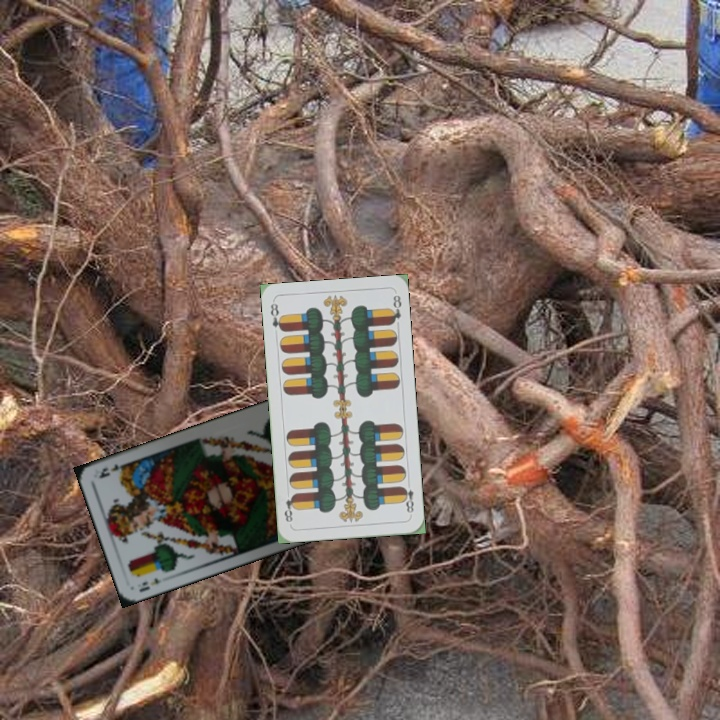E8: (398, 477, 416, 518), (266, 299, 286, 334)
EK: (135, 573, 171, 595)
